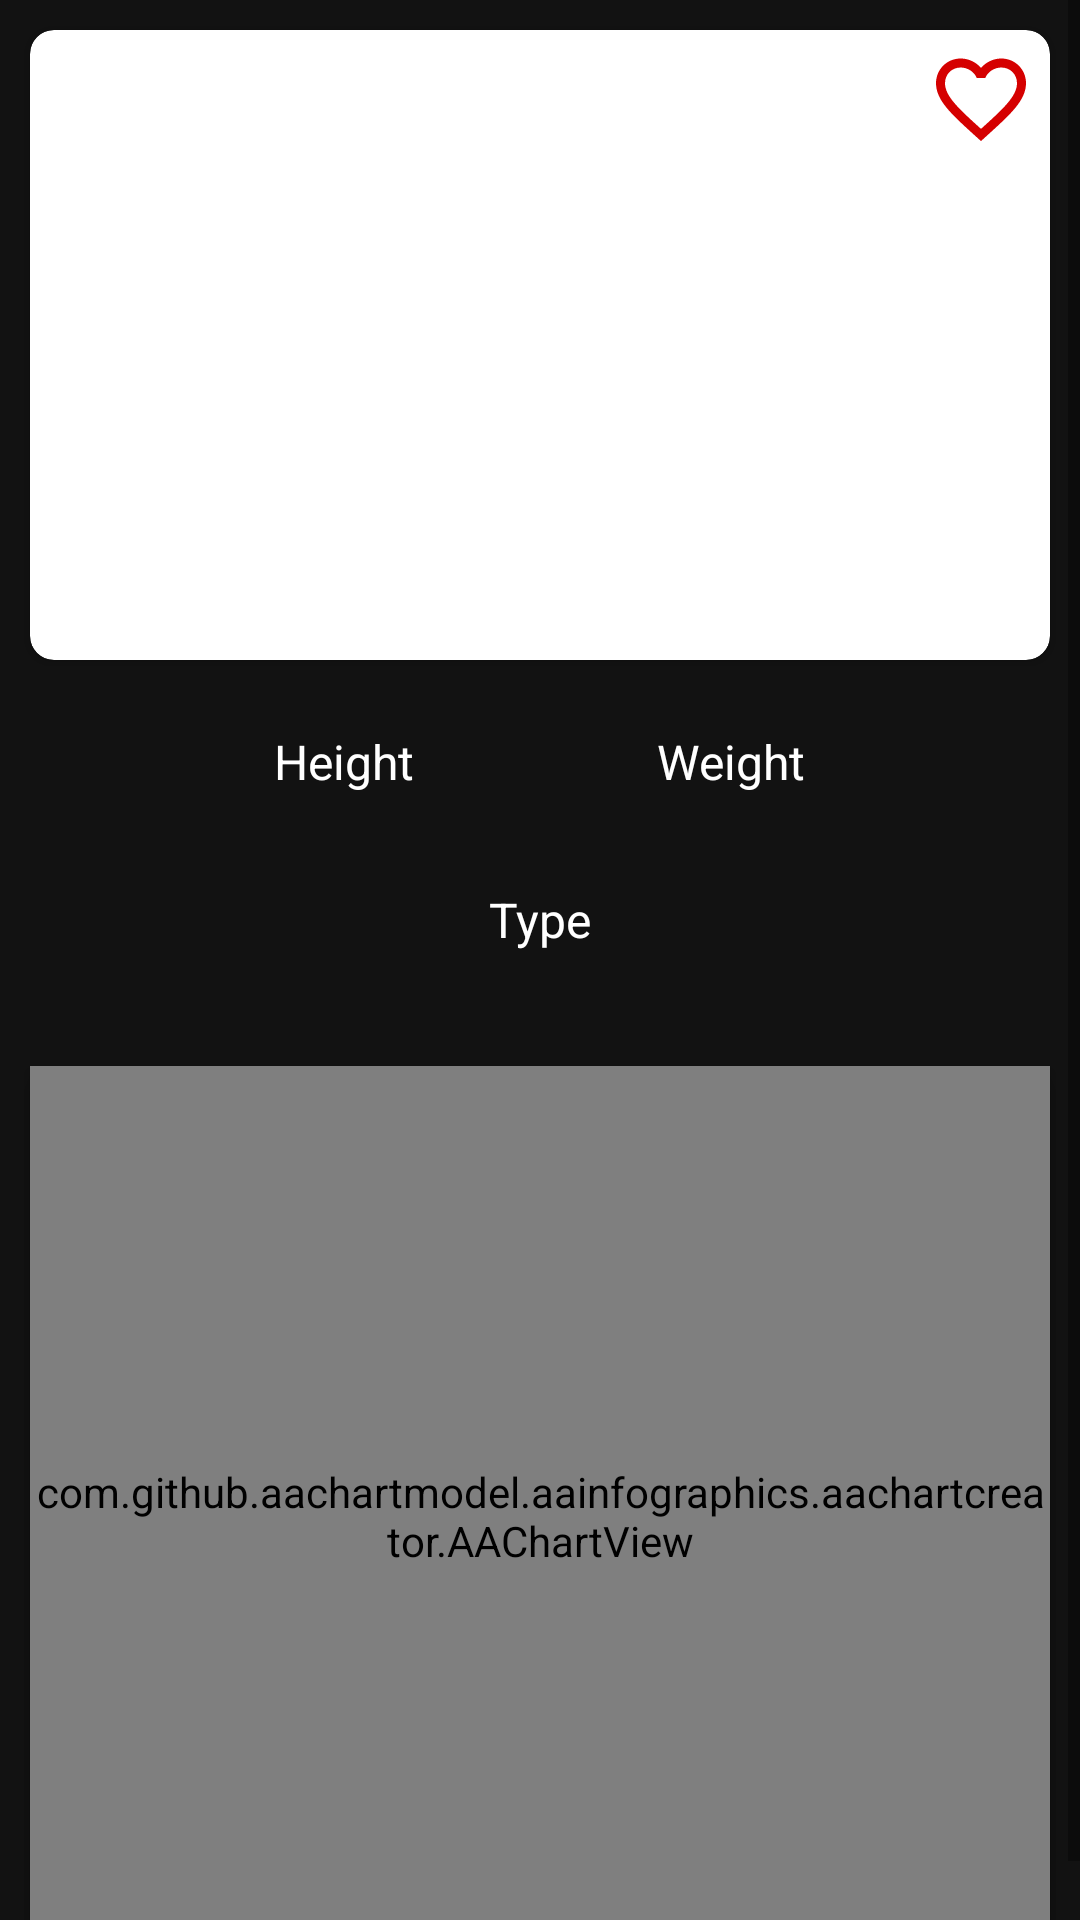

Named icons in this screenshot (1080×1920) and their centers, (x,y):
favorite: (981,99)
